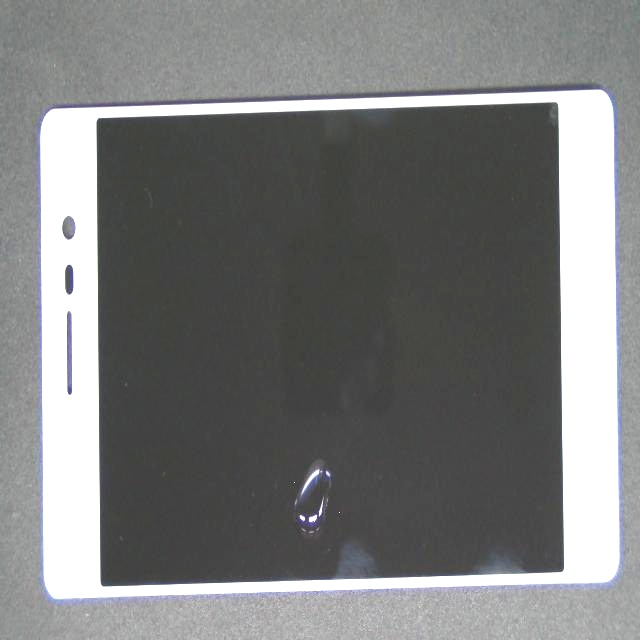oil: (142, 227, 445, 640)
